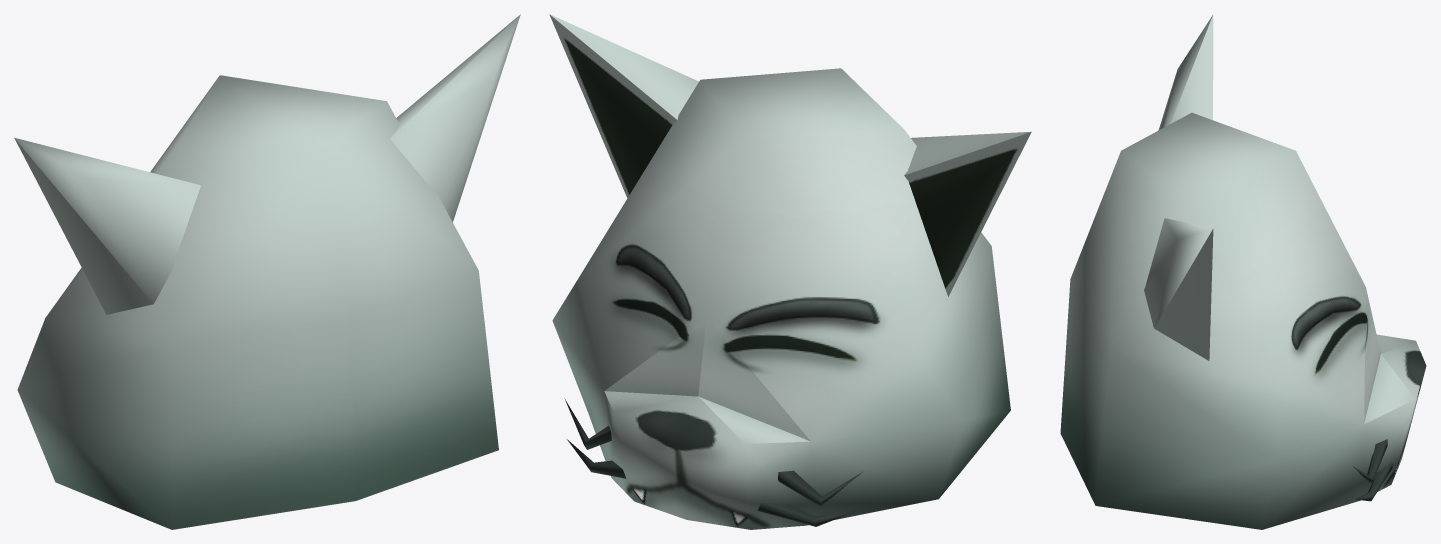
The model's file is fatcat.glb.
3 renders of one model, left to right at view 1: azimuth 30°, elevation 25°; view 2: azimuth 150°, elevation 25°; view 3: azimuth 270°, elevation 25°, orthographic. The views are drawn at different scales.
Parts seen in each view (by area): view 1: fatcat; view 2: fatcat; view 3: fatcat.
Part boxes in pixels (x1,y1,x2,y2): fatcat: (14,14,520,529); fatcat: (549,14,1031,529); fatcat: (1060,14,1426,529).
Size of the model in its own units: 1.45 by 1.07 by 1.05.
Materials: 1 (1 with a texture image).
